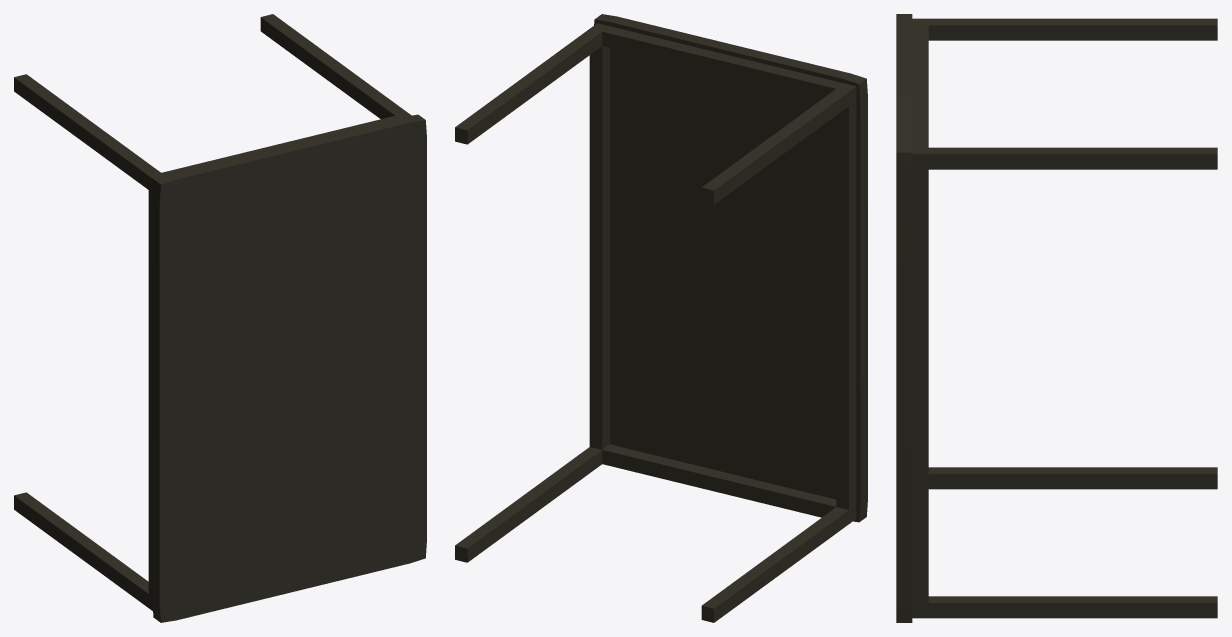
File: breakfast_table-nvoqyl-0.obj
The picture shows the model from 3 angles, left to right: view 1: azimuth 30°, elevation 25°; view 2: azimuth 150°, elevation 25°; view 3: azimuth 270°, elevation 25°; orthographic projection. The views are drawn at different scales.
Bounding box in the file's own units: 0.763 × 1.2 × 0.7412.
Materials: 1 (1 with a texture image).
